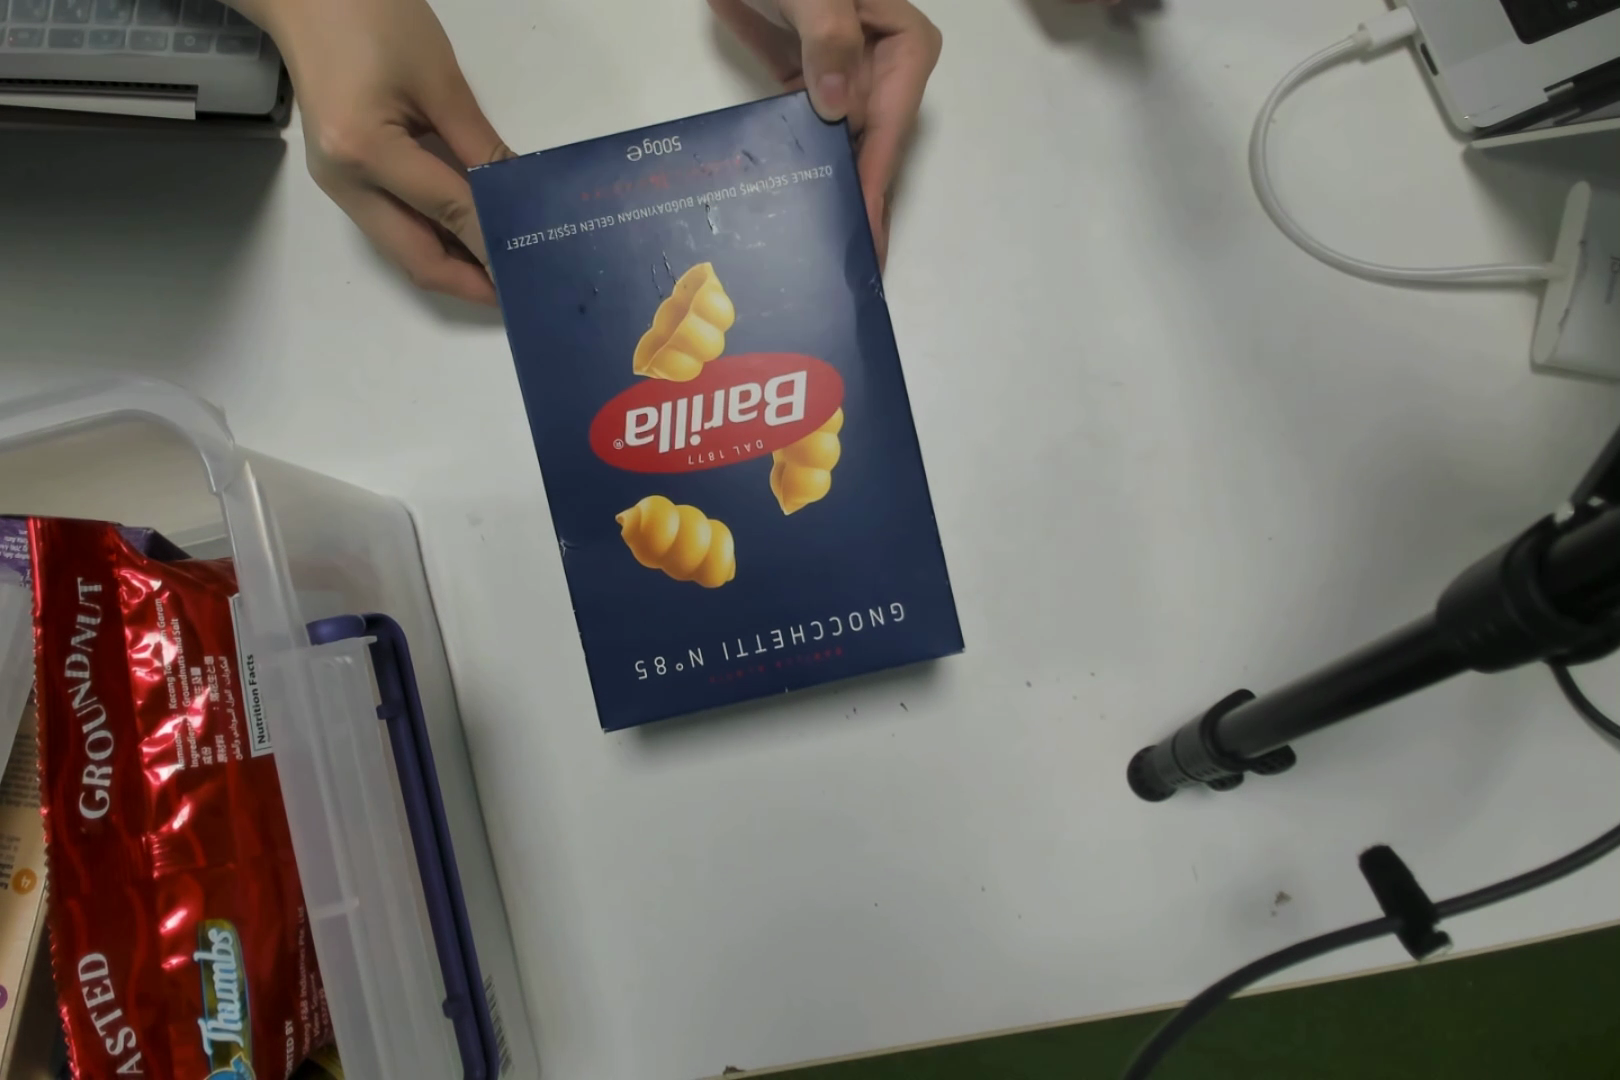Pasta_500-599g_NonHalal_NonHealthy: (542, 121, 940, 710)
